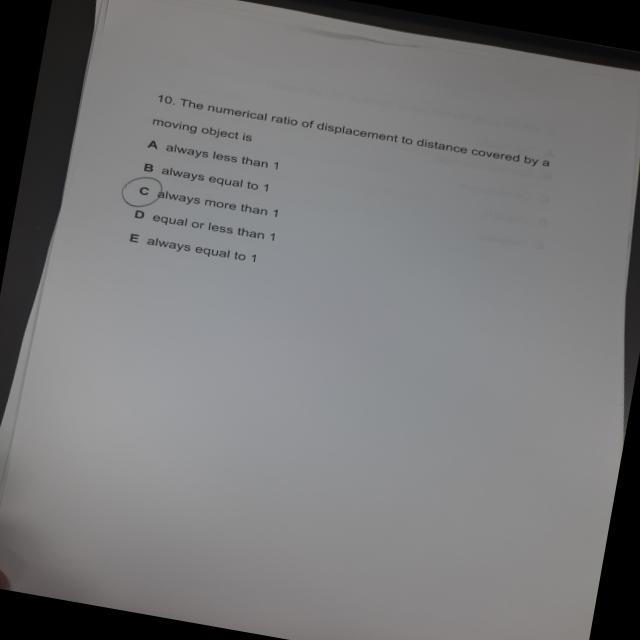C: (113, 170, 168, 214)
